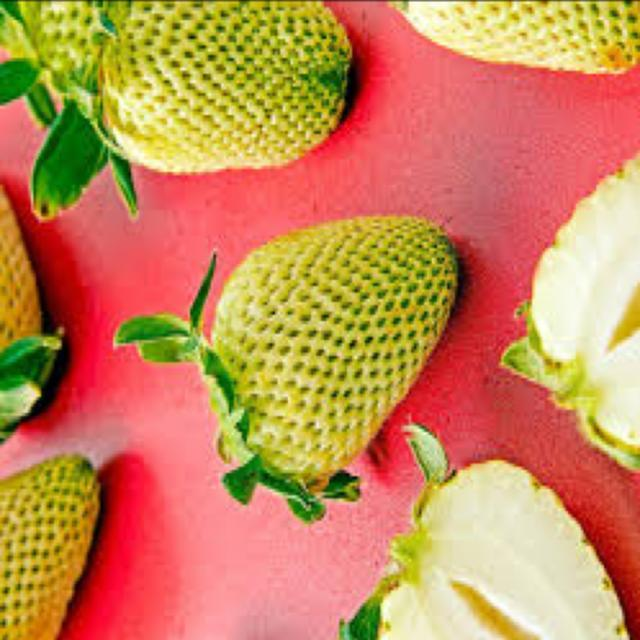unripe: (212, 216, 458, 472), (98, 0, 352, 170), (0, 451, 102, 640)
